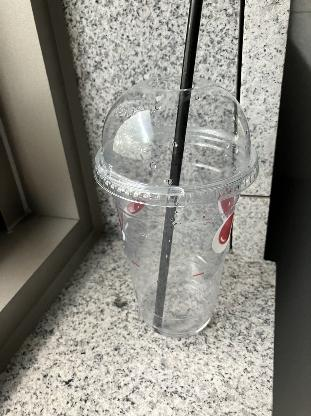Plastic Cup: (89, 56, 259, 348), (94, 77, 260, 209)
